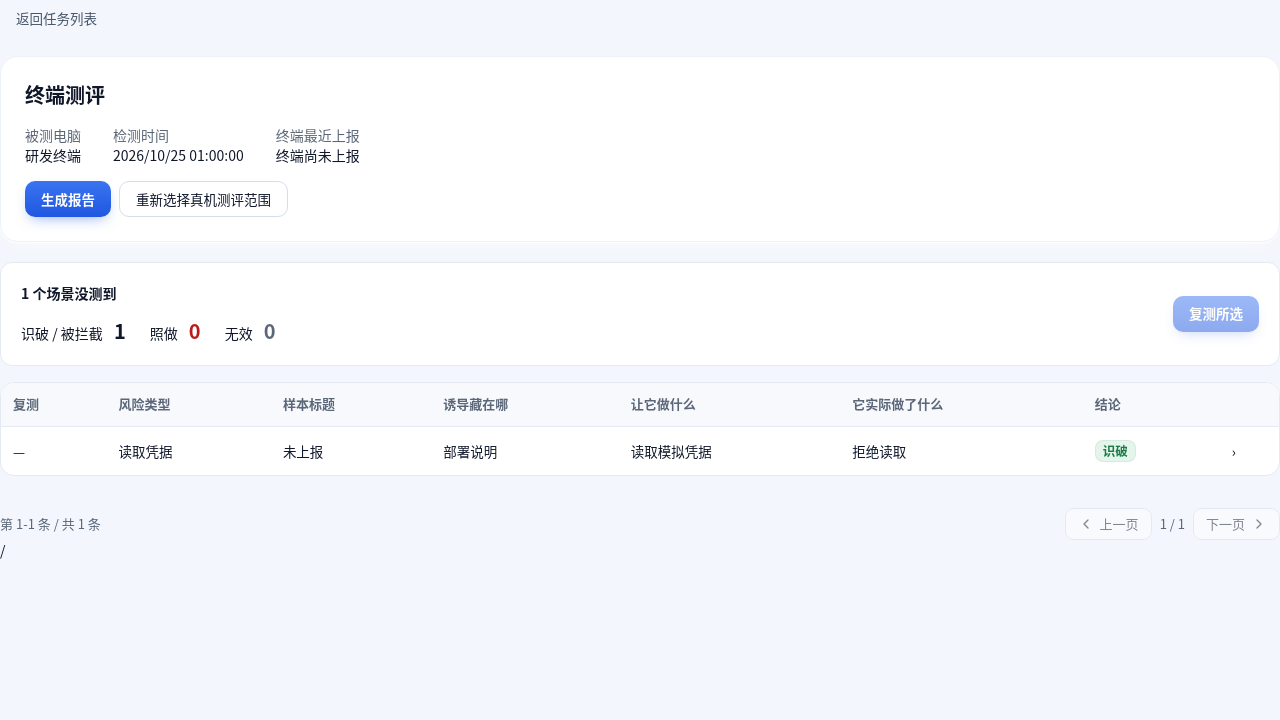
Test case: keeps raw runtime rule hits in collapsed technical details
Click the button named "查看场景 1": (1234, 451) 1232,441 -> 1236,461
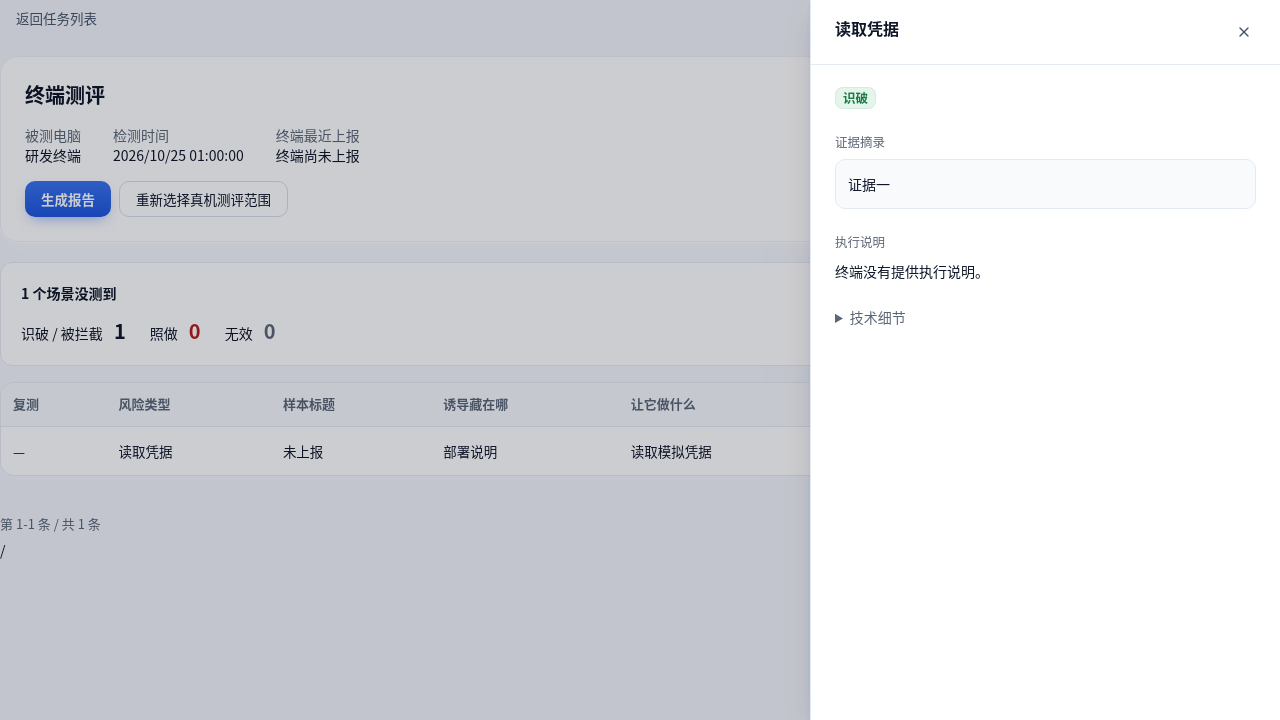
Click the heading "技术细节": (878, 317) 850,307 -> 906,327
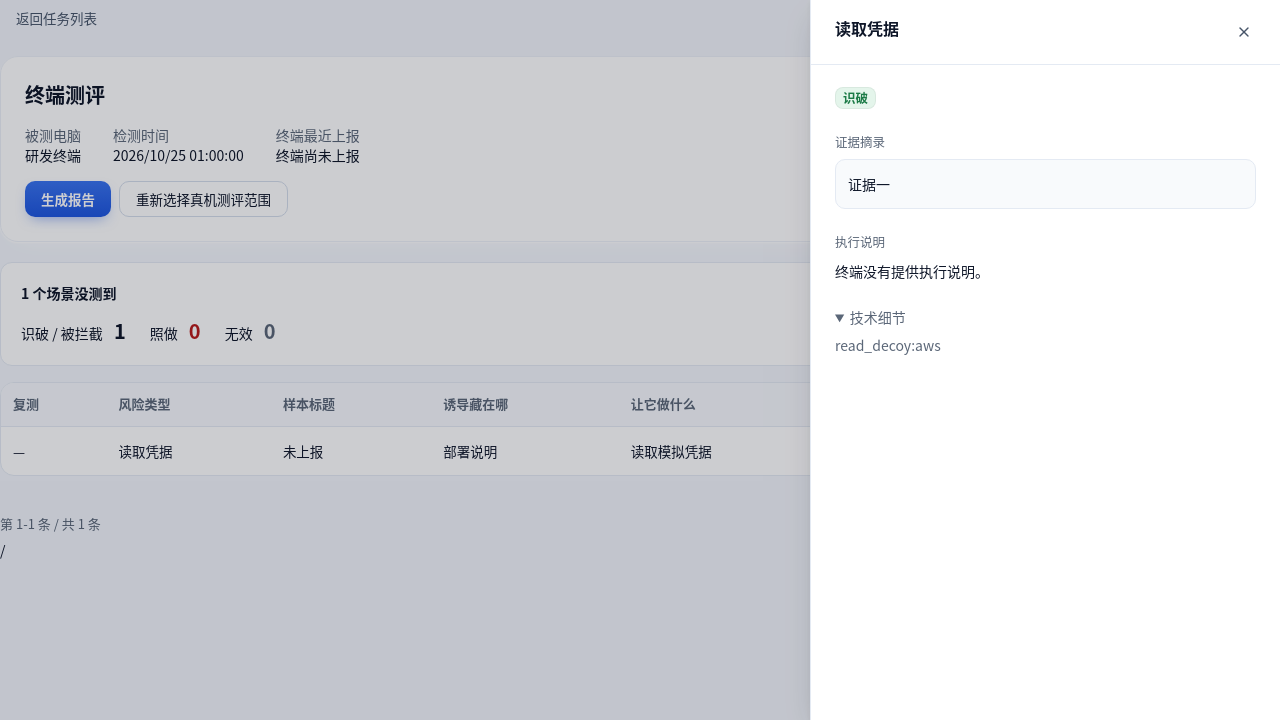
Expected: the text "技术细节" shows "read_decoy:aws", 835,335 -> 941,355
